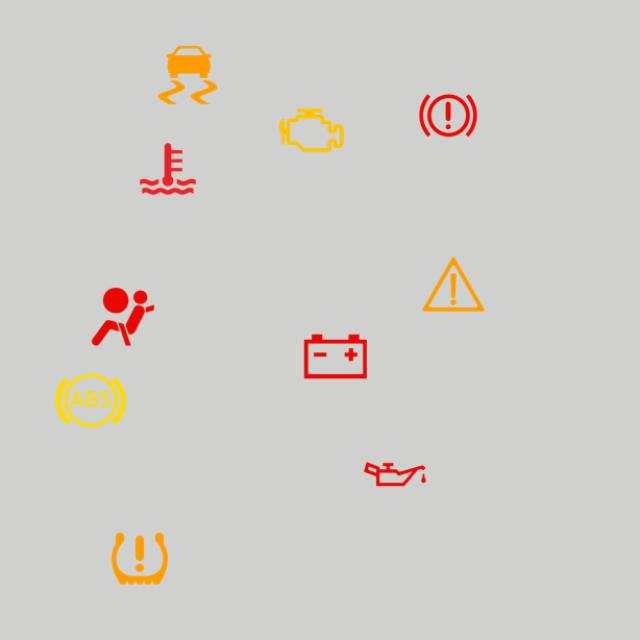Anti Lock Braking System: (52, 362, 129, 439)
Braking System Issue: (409, 77, 486, 154)
Charging System Issue: (297, 318, 374, 395)
Check Engine: (273, 92, 350, 169)
Electronic Stability Problem -ESP-: (149, 36, 226, 114)
Engine Overheating Warning Light: (130, 130, 207, 208)
Low Engine Oil Warning Light: (356, 436, 434, 513)
Low Tire Pressure Warning Light: (101, 520, 178, 597)
Master warning light: (415, 246, 492, 323)
SRS-Airbag: (85, 278, 162, 356)
